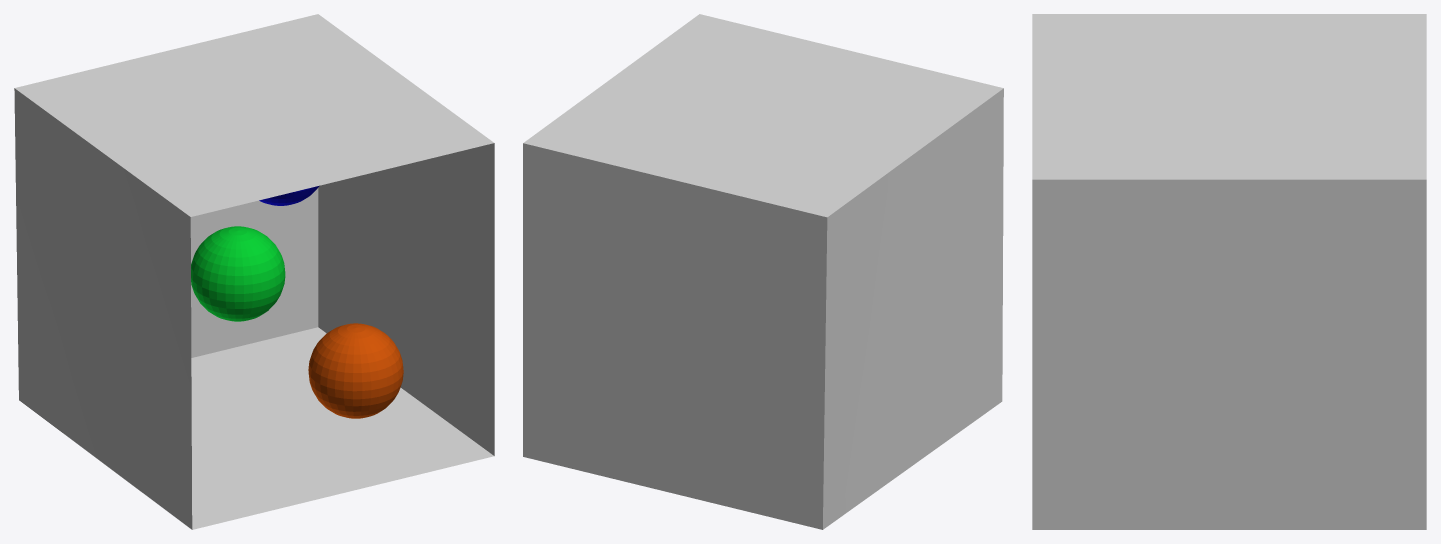
Rendered from colorballs.obj.
3 views of the same model, side by side, from view 1: azimuth 30°, elevation 25°; view 2: azimuth 150°, elevation 25°; view 3: azimuth 270°, elevation 25° (orthographic). The views are drawn at different scales.
Parts seen in each view (by area): view 1: leftWall, ceiling, rightWall, floor, backWall, Sphere.001, Sphere.003; view 2: backWall, leftWall, ceiling; view 3: rightWall, ceiling.
Part boxes in pixels (bbox=[...]): leftWall: bbox=[14, 88, 192, 529]; ceiling: bbox=[15, 14, 493, 216]; rightWall: bbox=[318, 143, 494, 455]; floor: bbox=[191, 327, 493, 529]; backWall: bbox=[190, 188, 318, 357]; Sphere.001: bbox=[308, 323, 403, 418]; Sphere.003: bbox=[191, 226, 285, 321]; backWall: bbox=[523, 143, 827, 529]; leftWall: bbox=[823, 88, 1003, 529]; ceiling: bbox=[523, 14, 1003, 217]; rightWall: bbox=[1032, 179, 1426, 529]; ceiling: bbox=[1032, 14, 1426, 179].
Bounding box in the file's own units: 7.35 × 7.24 × 7.39.
